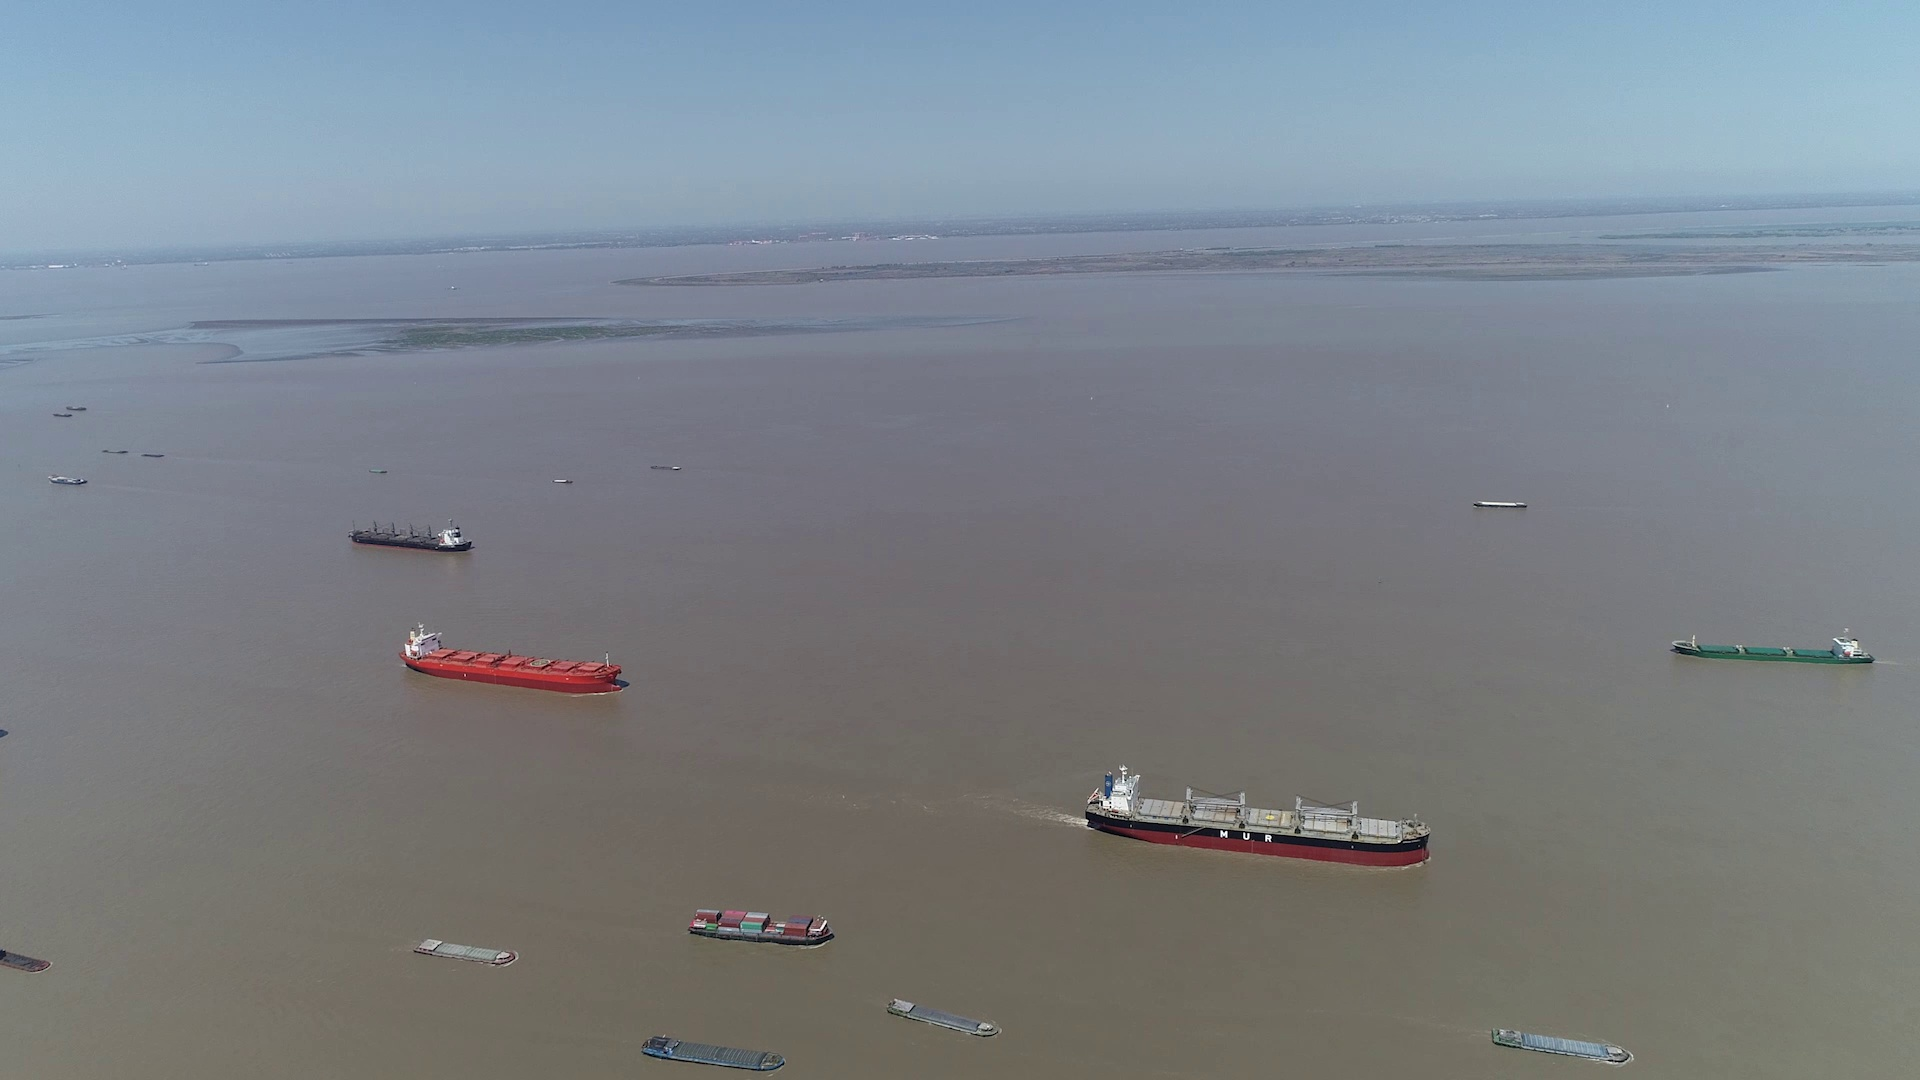ship: (1087, 767, 1431, 865), (400, 624, 618, 694), (1671, 630, 1873, 665), (688, 906, 835, 945), (1490, 1026, 1631, 1065), (641, 1036, 786, 1073), (887, 998, 998, 1040), (345, 518, 473, 553), (413, 938, 517, 967), (0, 945, 51, 975), (49, 473, 88, 487), (1474, 500, 1528, 509)
